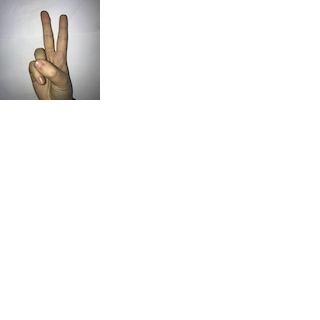scissors: (25, 8, 77, 99)
